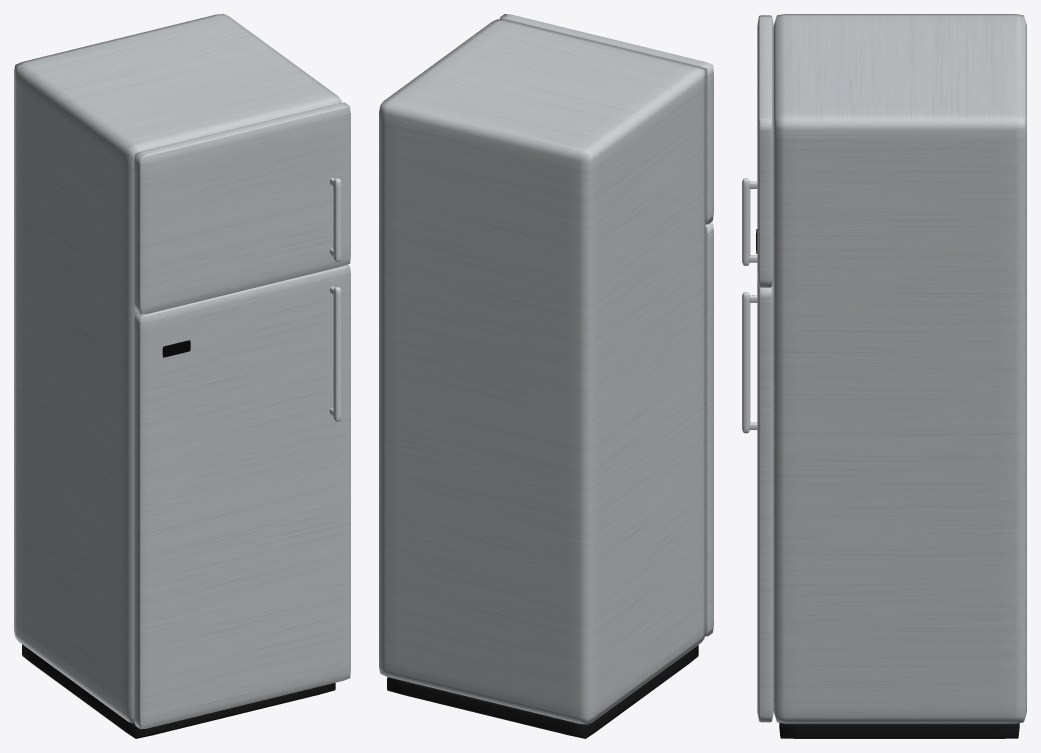
Rendered from geladeira-duplex.glb.
The picture shows the model from 3 angles, left to right: view 1: azimuth 30°, elevation 25°; view 2: azimuth 150°, elevation 25°; view 3: azimuth 270°, elevation 25°; orthographic projection. The views are drawn at different scales.
Visible parts, largest first — view 1: Corpo, Porta_Refrigerador, Porta_Freezer, Rodape, Puxador_Refrigerador, Puxador_Freezer; view 2: Corpo, Rodape, Porta_Refrigerador, Porta_Freezer; view 3: Corpo, Porta_Refrigerador, Porta_Freezer, Rodape, Puxador_Refrigerador, Puxador_Freezer.
Boxes of the visible parts, box(x1,y1,x2,y2) form: Corpo: box(14, 14, 341, 723); Porta_Refrigerador: box(134, 264, 350, 729); Porta_Freezer: box(134, 102, 350, 314); Rodape: box(22, 644, 335, 738); Puxador_Refrigerador: box(333, 287, 341, 421); Puxador_Freezer: box(333, 178, 341, 261); Corpo: box(379, 19, 705, 724); Rodape: box(387, 645, 698, 738); Porta_Refrigerador: box(705, 222, 713, 636); Porta_Freezer: box(499, 14, 713, 224); Corpo: box(774, 14, 1026, 723); Porta_Refrigerador: box(757, 276, 773, 722); Porta_Freezer: box(757, 15, 773, 287); Rodape: box(779, 722, 1019, 738); Puxador_Refrigerador: box(742, 292, 750, 433); Puxador_Freezer: box(742, 178, 750, 265).
Size of the model in its own units: 0.7 by 1.86 by 0.771.
4 materials, 1 textured.
